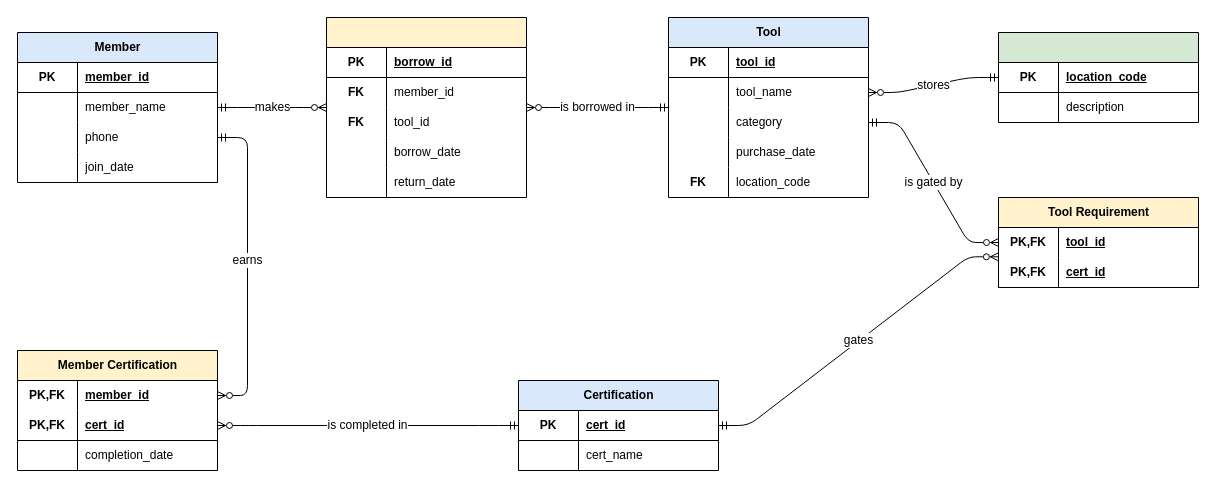
Image size: 1216x488. Some labels were removed from this diagram. The shapes that lost their labels are listed below. From the top down, each one's box as (x1, y1, x2, y2) in pixels, then its label:
(998, 32, 1198, 122): Storage Location
(326, 16, 526, 198): Borrowing
